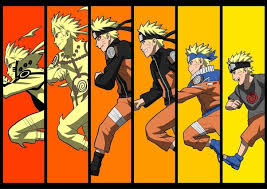Naruto: (50, 13, 81, 54), (3, 44, 33, 83), (92, 15, 122, 54), (138, 22, 168, 59), (185, 43, 216, 77), (227, 51, 256, 86)
